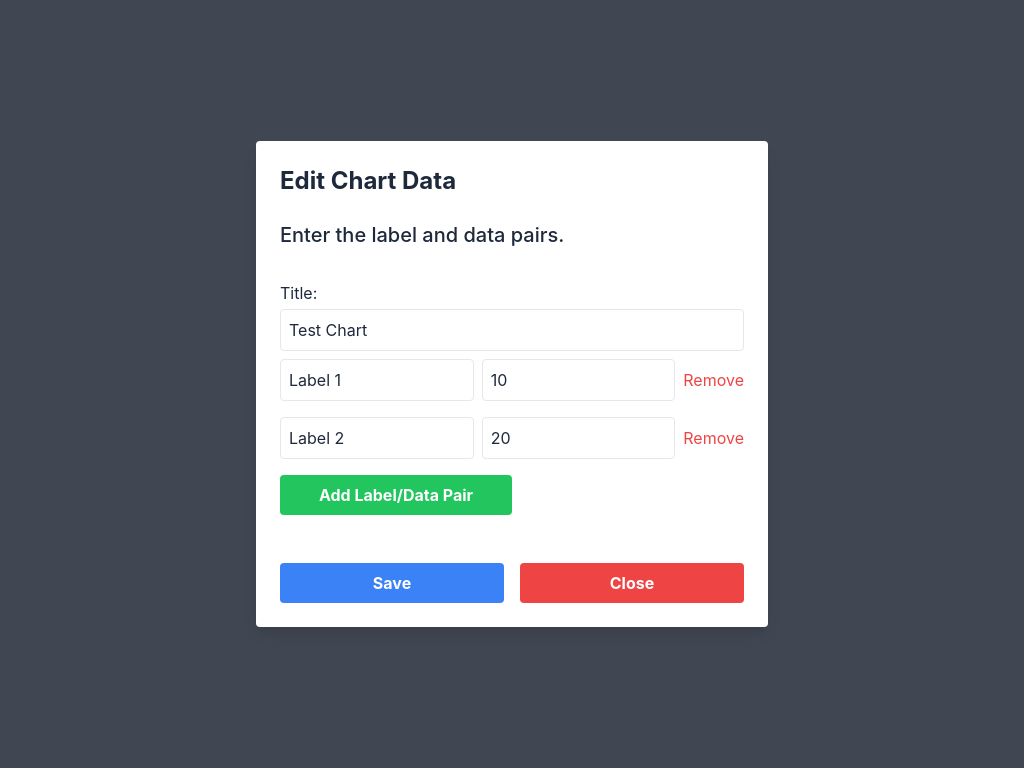
Test: PieChartPopup › allows removing a label/data pair
The width and height of the screenshot is (1024, 768).
What coordinates should you click on to do the following:
click the 1st button "Remove"
I would click on:
 (714, 380)
Its box is [683,368,744,392].
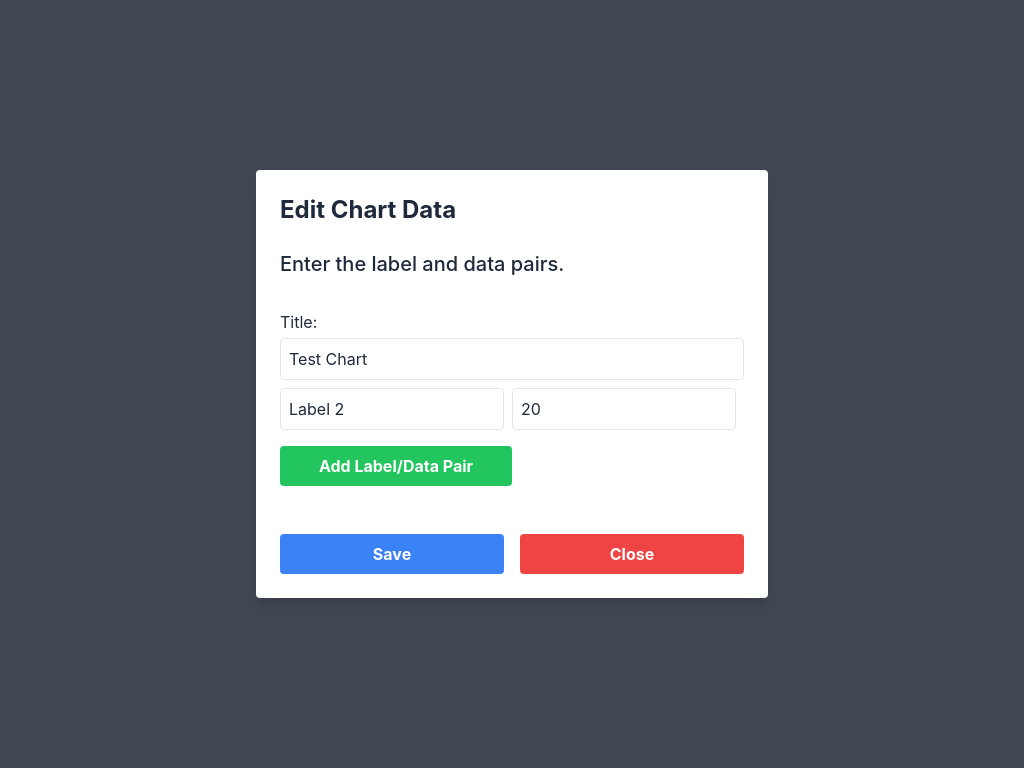
Check: the number of fields with placeholder "Label" is 1, box [280,388,504,430]
Check: the number of fields with placeholder "Data" is 1, box [512,388,736,430]
